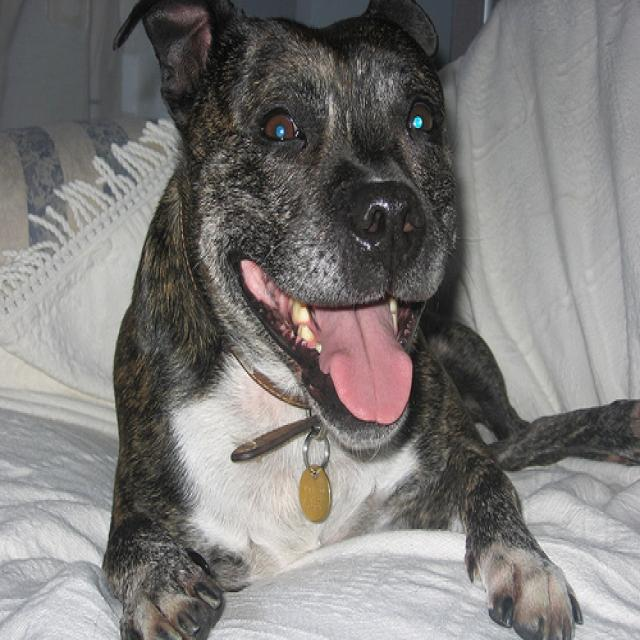dog: (107, 0, 457, 451)
